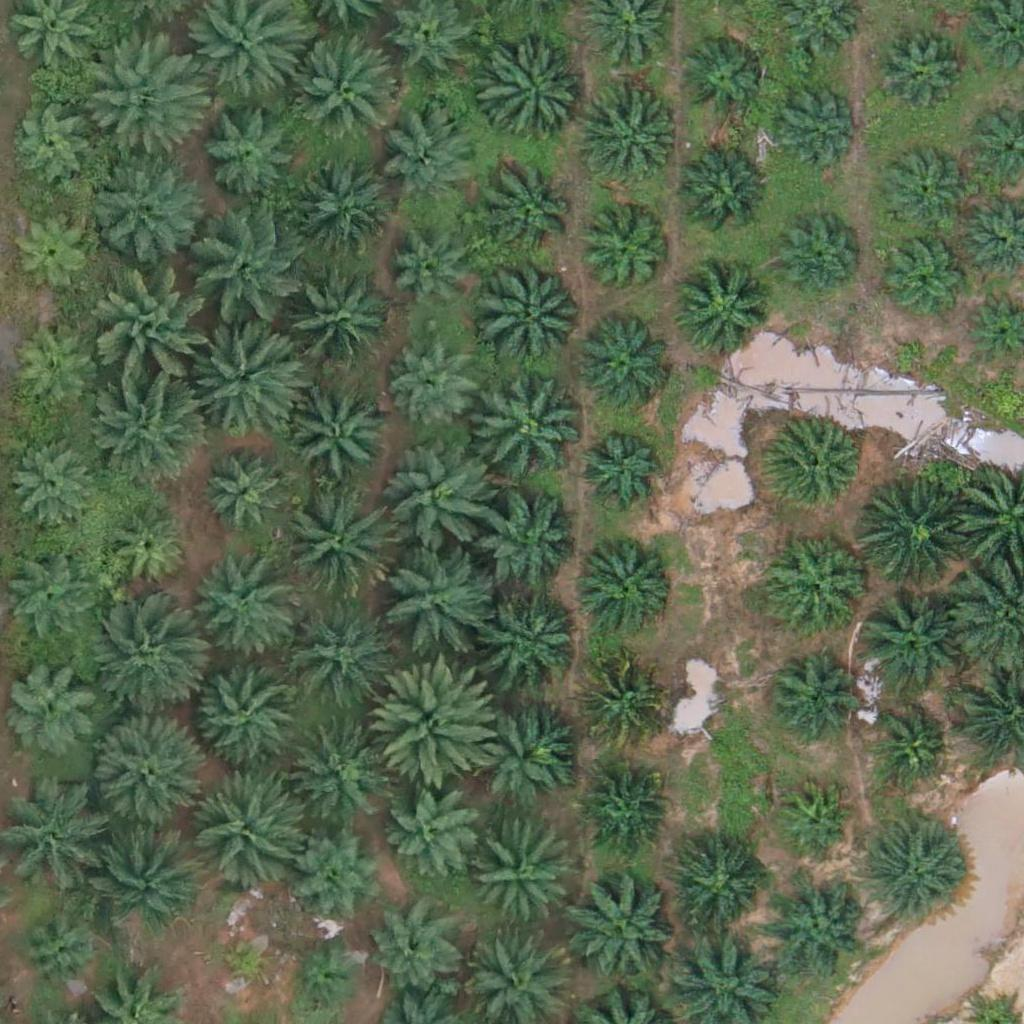Kelapa_Sawit: (375, 661, 500, 787), (377, 539, 490, 653), (278, 268, 391, 382), (567, 871, 680, 984), (279, 487, 392, 600), (283, 599, 396, 712), (190, 654, 303, 767), (87, 715, 200, 828), (856, 481, 969, 594), (471, 370, 584, 483), (195, 214, 308, 327), (94, 372, 207, 485), (384, 445, 497, 558), (87, 817, 199, 931), (477, 255, 589, 369), (100, 276, 212, 390), (183, 555, 295, 668), (188, 772, 300, 885), (85, 606, 197, 719), (291, 37, 403, 150), (190, 319, 302, 432), (87, 150, 199, 263), (87, 35, 199, 148), (857, 590, 957, 691), (577, 532, 677, 633), (484, 591, 584, 692), (470, 828, 570, 929), (287, 720, 387, 821), (289, 821, 389, 922), (671, 146, 771, 247), (672, 262, 772, 363), (581, 90, 681, 191), (481, 46, 581, 147), (290, 384, 390, 485), (195, 96, 295, 197), (865, 825, 965, 925), (768, 533, 868, 633), (771, 878, 871, 978), (479, 498, 579, 598), (469, 698, 569, 798), (2, 656, 102, 756), (766, 418, 866, 518), (574, 318, 674, 418), (483, 162, 583, 262), (384, 106, 484, 206), (291, 162, 391, 262), (765, 650, 853, 738), (676, 845, 764, 933), (576, 656, 664, 744), (369, 908, 457, 996), (102, 505, 190, 593), (16, 907, 104, 995), (767, 79, 855, 167), (869, 27, 957, 115), (583, 212, 671, 300), (575, 425, 663, 513), (202, 450, 290, 538), (5, 206, 93, 294), (10, 329, 98, 417), (2, 555, 89, 644), (579, 764, 666, 852), (387, 788, 474, 876), (774, 214, 861, 302), (884, 231, 971, 319), (880, 146, 967, 234), (679, 32, 766, 120), (388, 239, 475, 327), (393, 344, 480, 432), (8, 104, 95, 192), (9, 438, 96, 526), (288, 941, 363, 1017), (777, 781, 852, 857), (872, 707, 947, 782), (214, 929, 276, 992)
